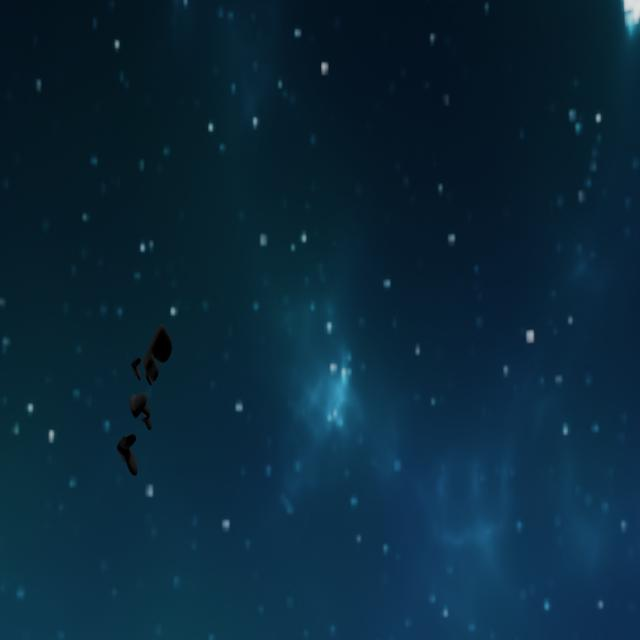large_debris: (146, 328, 172, 386), (127, 388, 158, 433), (115, 434, 139, 470), (128, 354, 144, 380)
